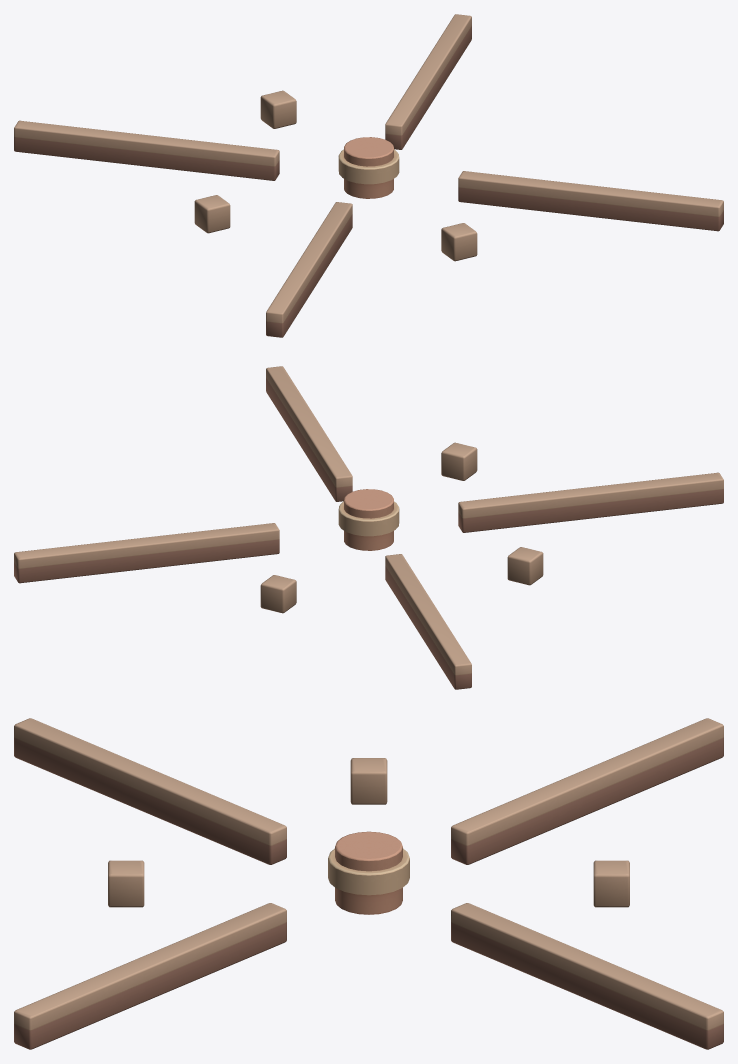
Rendered from Props.fbx.
3 views of the same model, one above another, from view 1: azimuth 30°, elevation 25°; view 2: azimuth 150°, elevation 25°; view 3: azimuth 270°, elevation 25° (orthographic). The views are drawn at different scales.
Visible parts, largest first — view 1: Box20-3_2 (3), Box20-3_2 (4), Box20-3_2 (2), Box20-3_2 (5), Cylinder-2, Box1-5, Box1-5 (1), Box1-5 (2); view 2: Box20-3_2 (2), Box20-3_2 (5), Box20-3_2 (3), Box20-3_2 (4), Cylinder-2, Box1-5, Box1-5 (1), Box1-5 (2); view 3: Box20-3_2 (2), Box20-3_2 (3), Box20-3_2 (4), Box20-3_2 (5), Cylinder-2, Box1-5, Box1-5 (1), Box1-5 (2).
Part boxes in pixels (x1,y1,x2,y2): Box20-3_2 (3): [14, 120, 279, 180]; Box20-3_2 (4): [458, 171, 723, 231]; Box20-3_2 (2): [266, 202, 352, 337]; Box20-3_2 (5): [385, 14, 471, 149]; Cylinder-2: [338, 137, 399, 198]; Box1-5: [194, 195, 230, 233]; Box1-5 (1): [441, 223, 477, 261]; Box1-5 (2): [260, 90, 296, 128]; Box20-3_2 (2): [458, 472, 723, 532]; Box20-3_2 (5): [14, 523, 279, 583]; Box20-3_2 (3): [385, 554, 471, 689]; Box20-3_2 (4): [266, 366, 352, 501]; Cylinder-2: [338, 489, 399, 550]; Box1-5: [507, 547, 543, 585]; Box1-5 (1): [441, 442, 477, 480]; Box1-5 (2): [260, 575, 296, 613]; Box20-3_2 (2): [14, 718, 286, 864]; Box20-3_2 (3): [451, 718, 723, 864]; Box20-3_2 (4): [14, 903, 286, 1049]; Box20-3_2 (5): [451, 903, 723, 1049]; Cylinder-2: [328, 831, 409, 914]; Box1-5: [350, 758, 387, 804]; Box1-5 (1): [108, 860, 144, 907]; Box1-5 (2): [593, 860, 629, 907].
Size of the model in its own units: 29.25 by 2.5 by 29.25.
